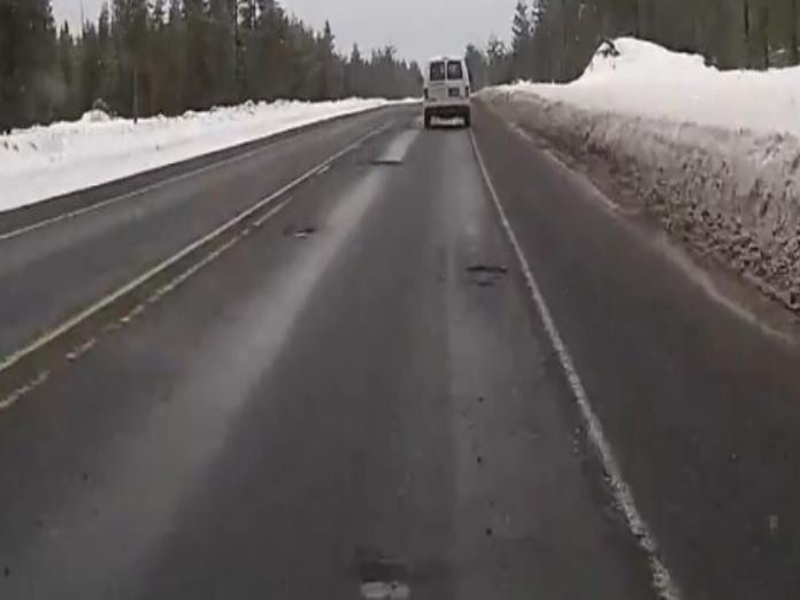pothole: (354, 573, 416, 600)
